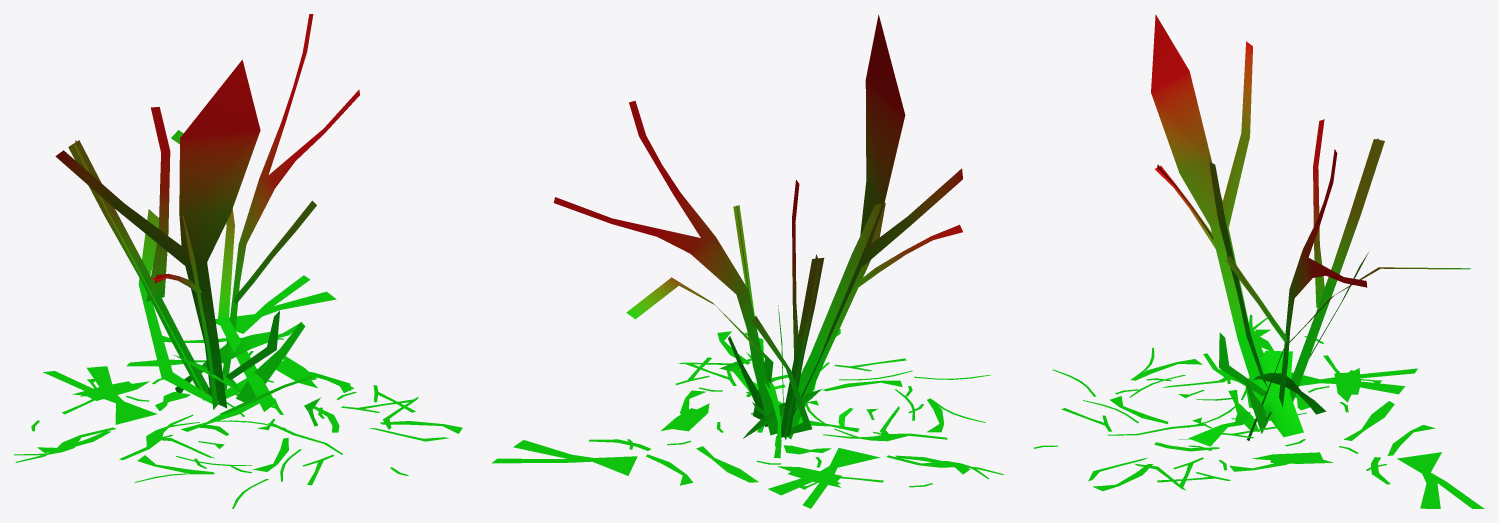
Rendered from Dead Shrubs_LOD1_Var5_vdknbbuha.fbx.
3 views of the same model, side by side, from view 1: azimuth 30°, elevation 25°; view 2: azimuth 150°, elevation 25°; view 3: azimuth 270°, elevation 25° (orthographic). The views are drawn at different scales.
Parts seen in each view (by area): view 1: _wrtc_Var5_LOD1; view 2: _wrtc_Var5_LOD1; view 3: _wrtc_Var5_LOD1.
Part boxes in pixels (x1=…): _wrtc_Var5_LOD1: x1=14, y1=14, x2=462, y2=508; _wrtc_Var5_LOD1: x1=492, y1=14, x2=1004, y2=508; _wrtc_Var5_LOD1: x1=1033, y1=14, x2=1484, y2=508.
Size of the model in its own units: 52.59 by 49.62 by 51.61.
